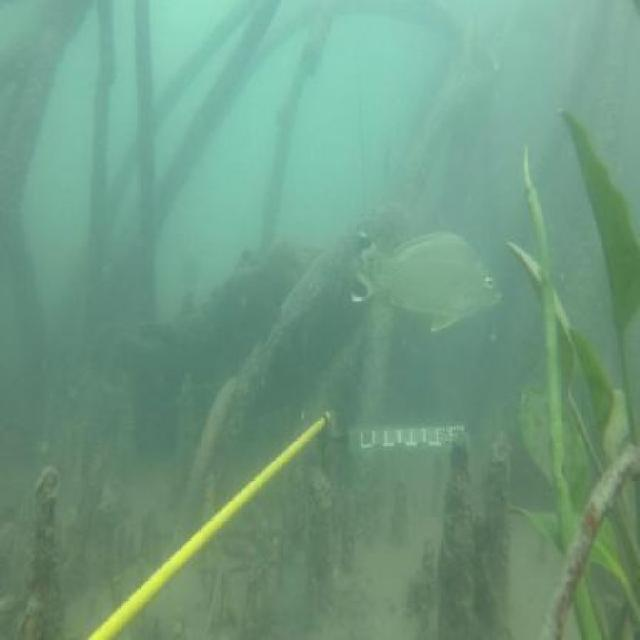Amniataba_caudivittatus: (348, 224, 504, 334)
